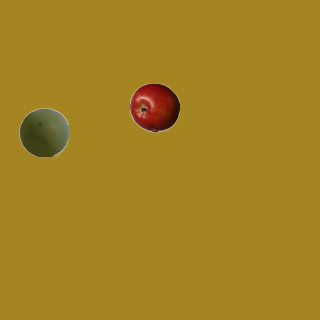Apple Braeburn: (129, 82, 179, 132)
Grape White 4: (18, 107, 68, 157)
